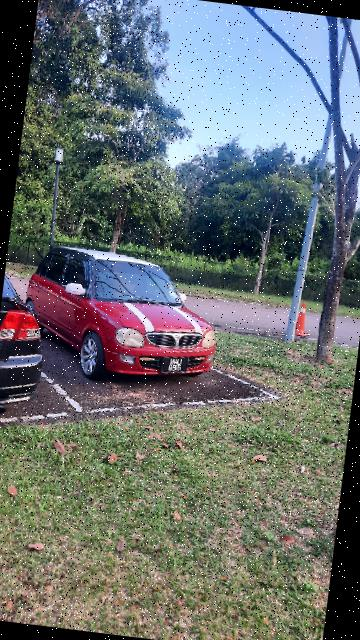License_Plate: (161, 355, 193, 377)
car: (16, 241, 242, 397)
